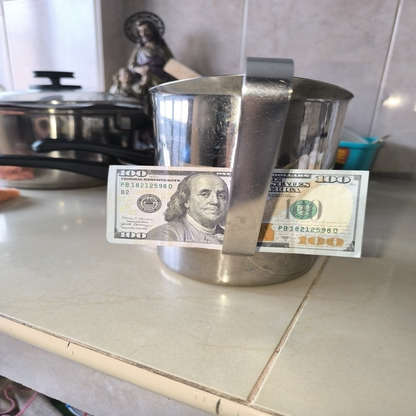one_hundred-front: (105, 161, 367, 262)
